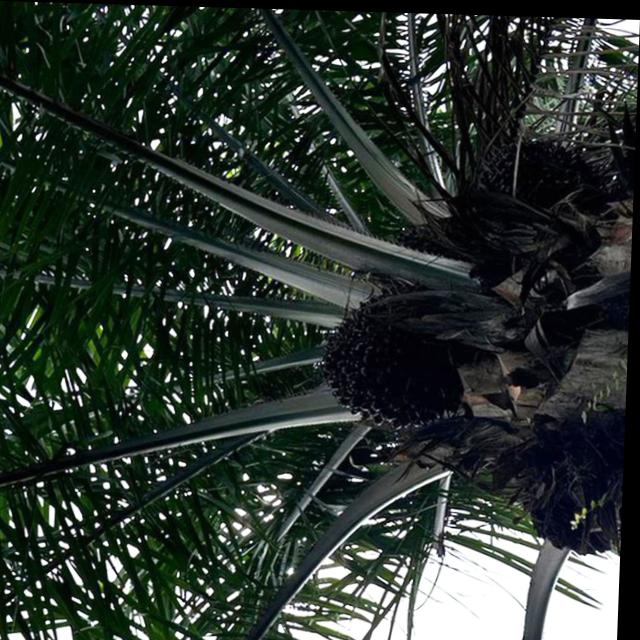ripe: (309, 283, 466, 436)
